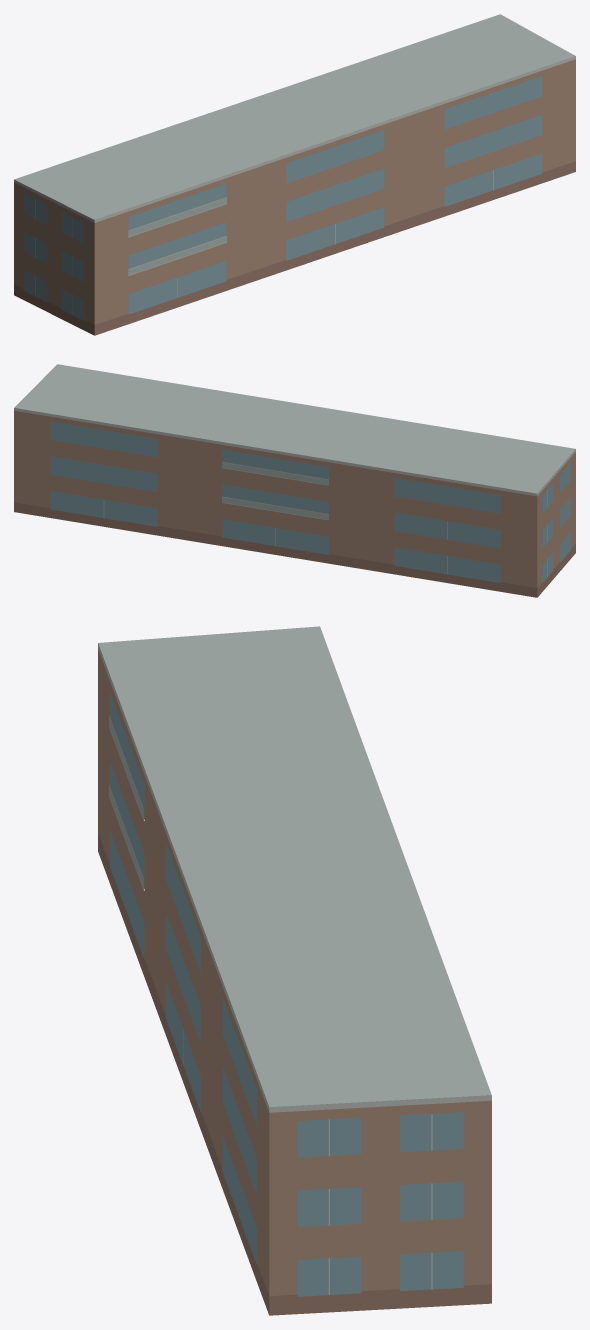
Rendered from survey-upis-32720359.glb.
3 views of the same model, one above another, from view 1: azimuth 30°, elevation 25°; view 2: azimuth 150°, elevation 25°; view 3: azimuth 270°, elevation 25° (orthographic). The views are drawn at different scales.
Visible parts, largest first — view 1: survey-upis-32720359.tmp; view 2: survey-upis-32720359.tmp; view 3: survey-upis-32720359.tmp.
Part boxes in pixels (x1,y1,x2,y2): survey-upis-32720359.tmp: (14,14,575,335); survey-upis-32720359.tmp: (14,364,575,597); survey-upis-32720359.tmp: (98,626,491,1315).
Bounding box in the file's own units: 45.3 × 9.15 × 15.68.
